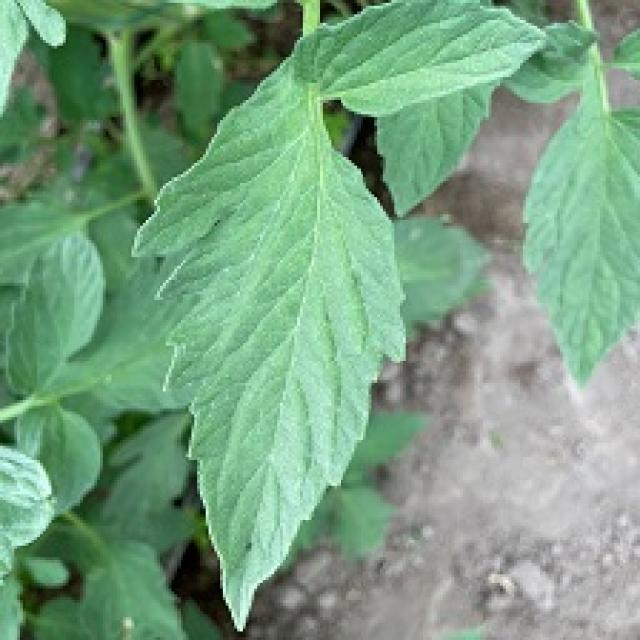Healthy: (105, 48, 469, 629), (524, 43, 639, 383), (284, 0, 551, 134)
